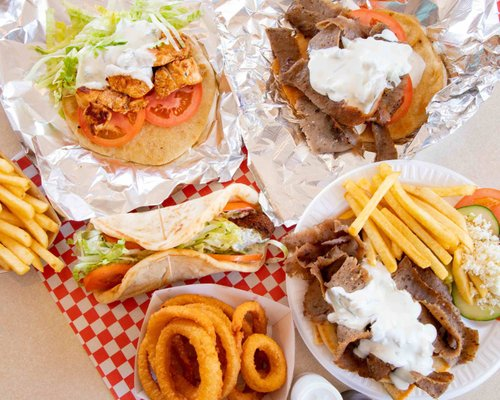soup: (21, 1, 220, 167), (263, 1, 448, 157)
